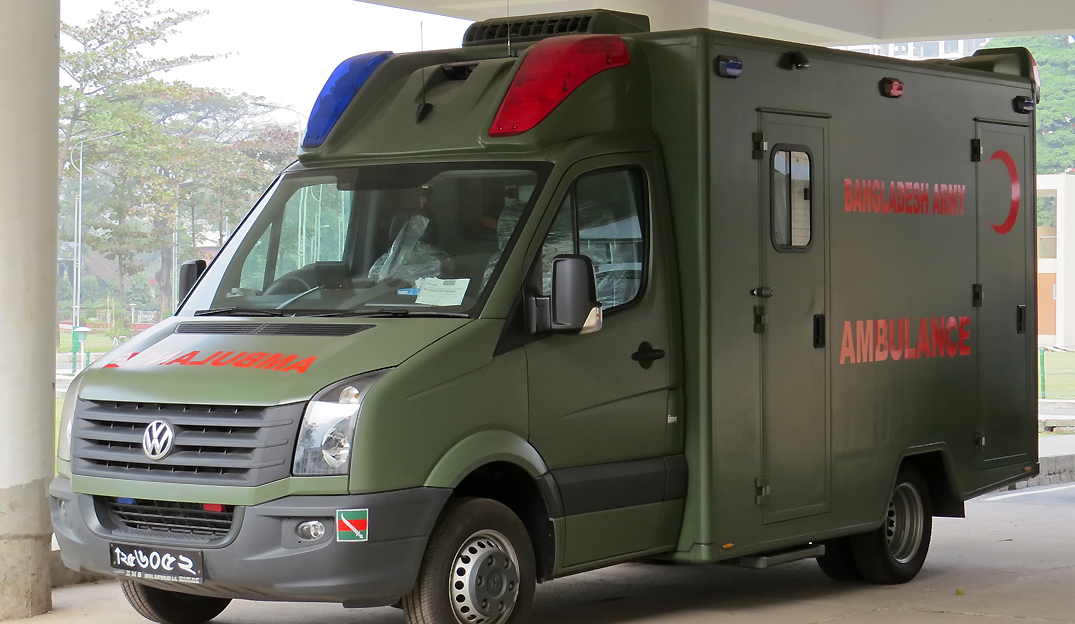Ambulance: (49, 5, 1044, 624)
